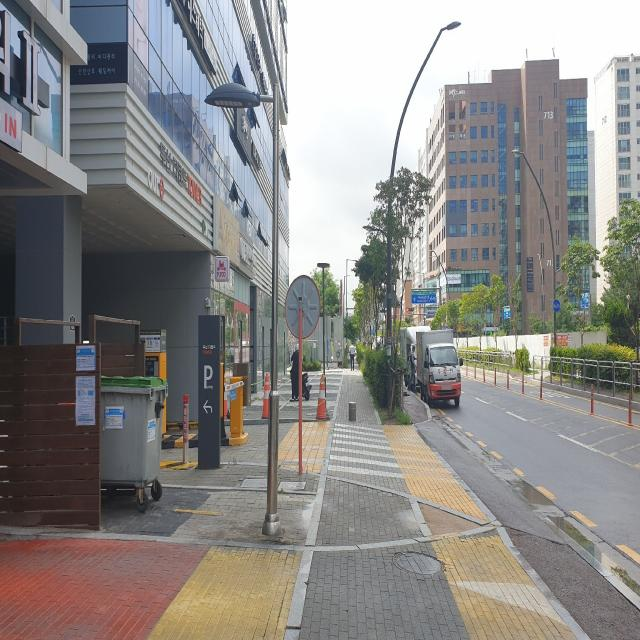횡단보도: (327, 422, 405, 480)
